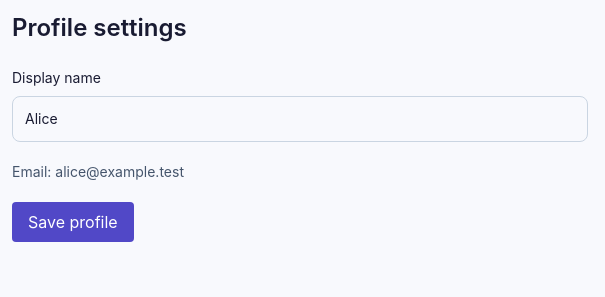
Test: saves only the permitted name, reloads it, rejects markup and isolates account changes
The image size is (605, 297).
Later steps or results of the test are not shown.
Step 1. Replace the text in the field labelled "Display name" with "Alice Study" → [300, 119], box [12, 96, 588, 142]
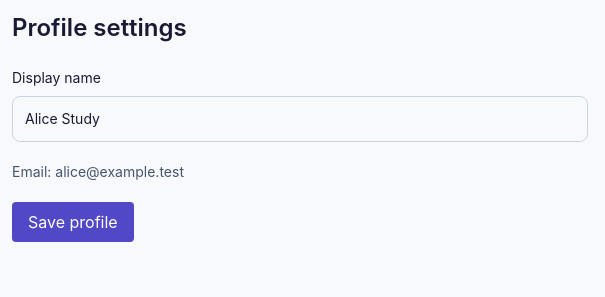
Step 2. Click the button "Save profile" → [73, 222], box [12, 202, 134, 242]
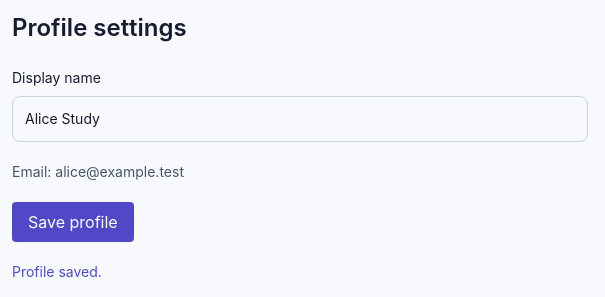
Expected: the text "Profile saved." is shown, [12, 263, 102, 280]
